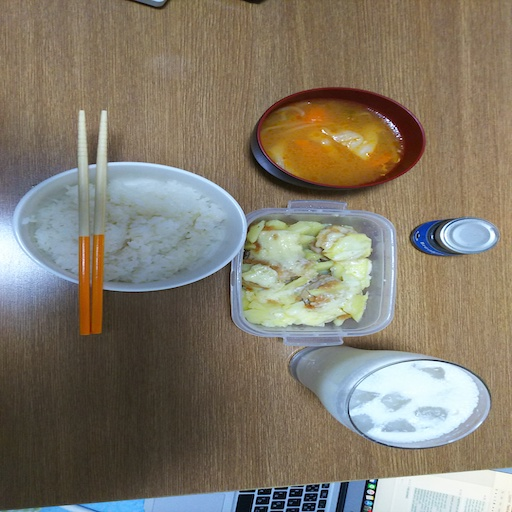drink: (286, 342, 493, 451)
other: (32, 176, 231, 281), (242, 213, 373, 331), (260, 96, 406, 183), (408, 216, 500, 256)
